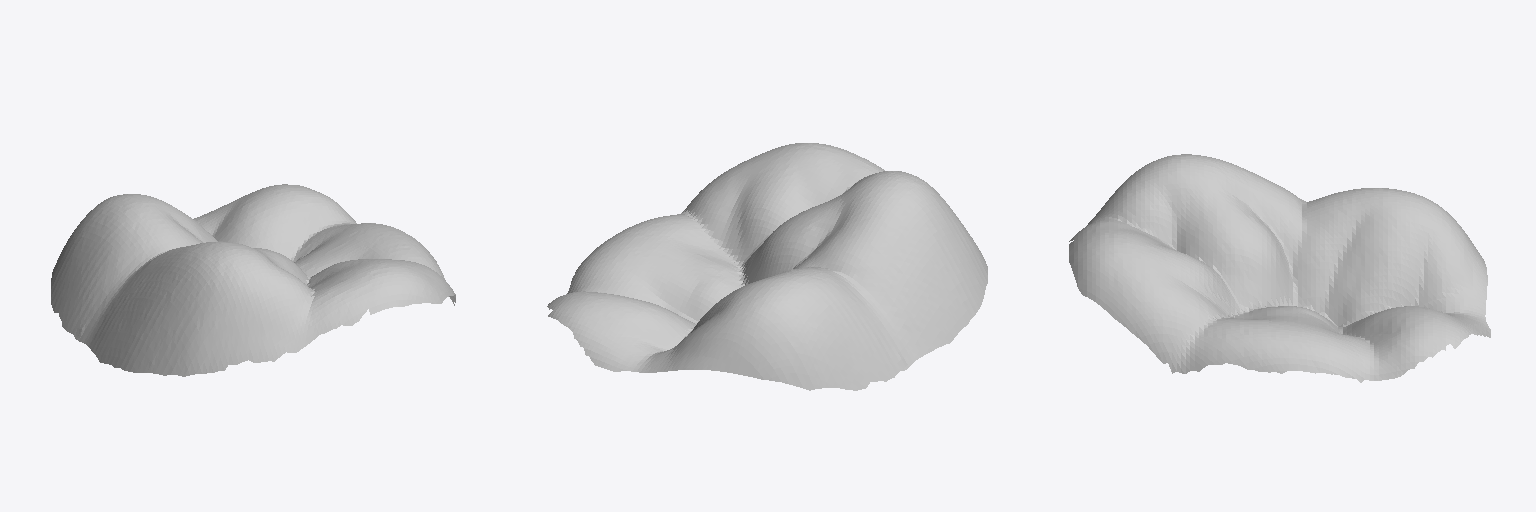
The model's file is test_left_0.obj.
3 renders of one model, left to right at view 1: azimuth 30°, elevation 25°; view 2: azimuth 150°, elevation 25°; view 3: azimuth 270°, elevation 25°, orthographic.
Visible parts, largest first — view 1: LowerHalfLeft.002_LowerHalfLeft.001_LowerHalfLeft.002_LowerHalfL; view 2: LowerHalfLeft.002_LowerHalfLeft.001_LowerHalfLeft.002_LowerHalfL; view 3: LowerHalfLeft.002_LowerHalfLeft.001_LowerHalfLeft.002_LowerHalfL.
Part boxes in pixels (bbox=[...]): LowerHalfLeft.002_LowerHalfLeft.001_LowerHalfLeft.002_LowerHalfL: bbox=[51, 184, 455, 376]; LowerHalfLeft.002_LowerHalfLeft.001_LowerHalfLeft.002_LowerHalfL: bbox=[547, 143, 987, 390]; LowerHalfLeft.002_LowerHalfLeft.001_LowerHalfLeft.002_LowerHalfL: bbox=[1069, 154, 1490, 382].
Size of the model in its own units: 8.76 by 2.97 by 9.4.